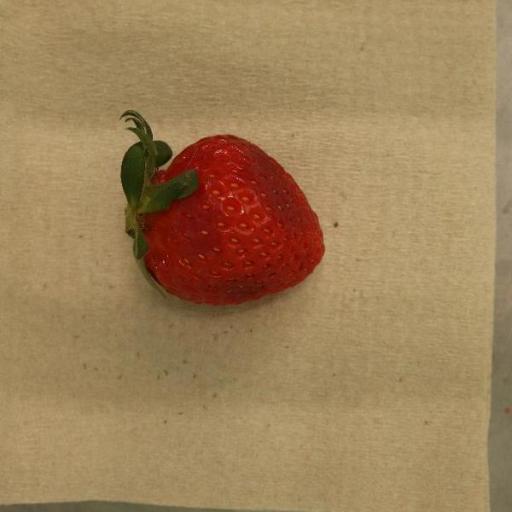Strawberry: (119, 110, 325, 306)
